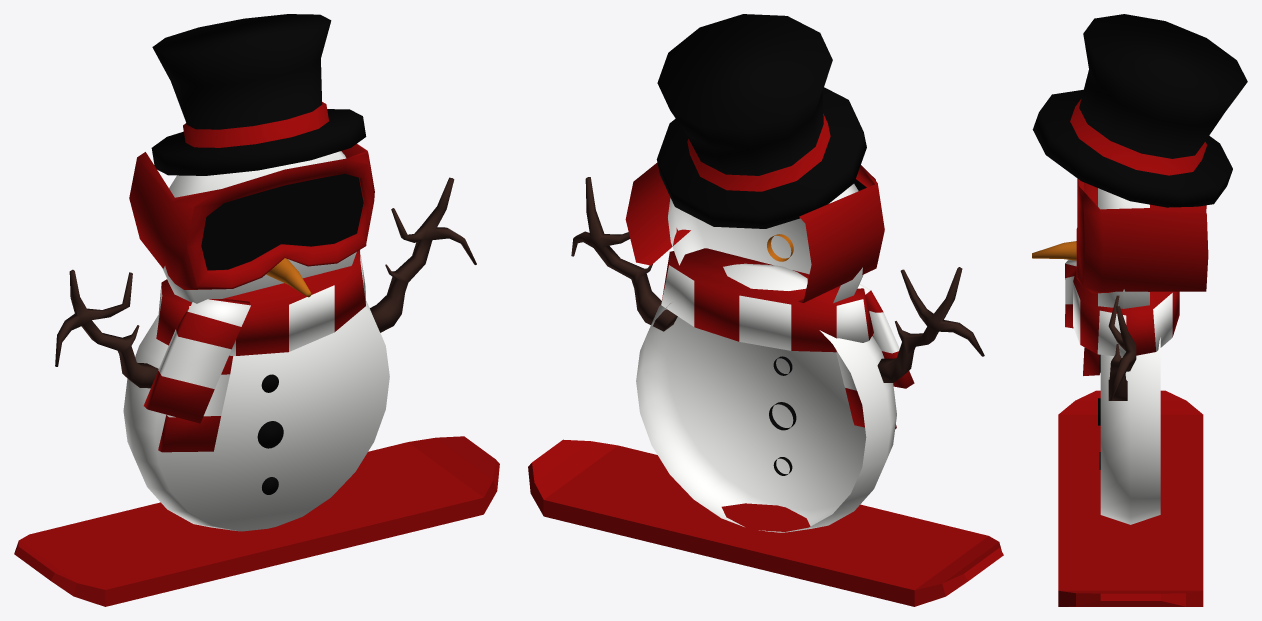
File: BonecoNeve.fbx
The picture shows the model from 3 angles, left to right: view 1: azimuth 30°, elevation 25°; view 2: azimuth 150°, elevation 25°; view 3: azimuth 270°, elevation 25°; orthographic projection. The views are drawn at different scales.
Parts seen in each view (by area): view 1: BonecoNeve; view 2: BonecoNeve; view 3: BonecoNeve.
Boxes of the visible parts, x1,y1,x2,y2 form: BonecoNeve: (14, 14, 499, 606); BonecoNeve: (528, 14, 1003, 606); BonecoNeve: (1032, 14, 1247, 606).
Bounding box in the file's own units: 147 × 158 × 63.64.
